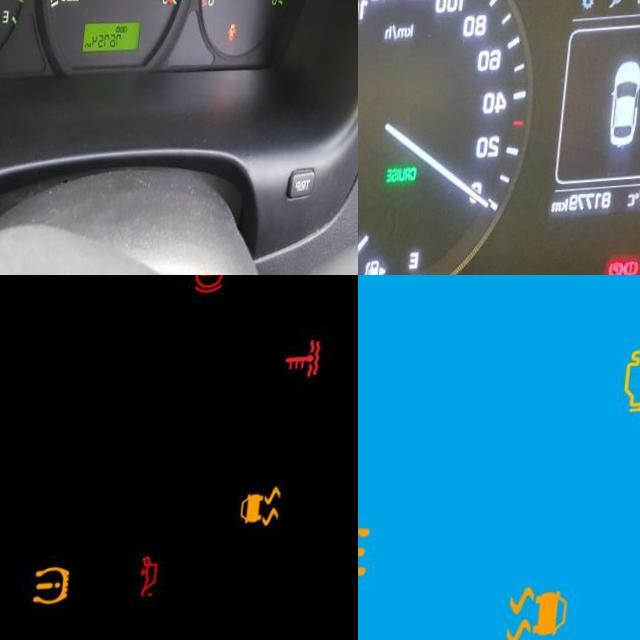Doors: (234, 28, 245, 47)
High Engine Coolant Temperature: (282, 342, 336, 395)
